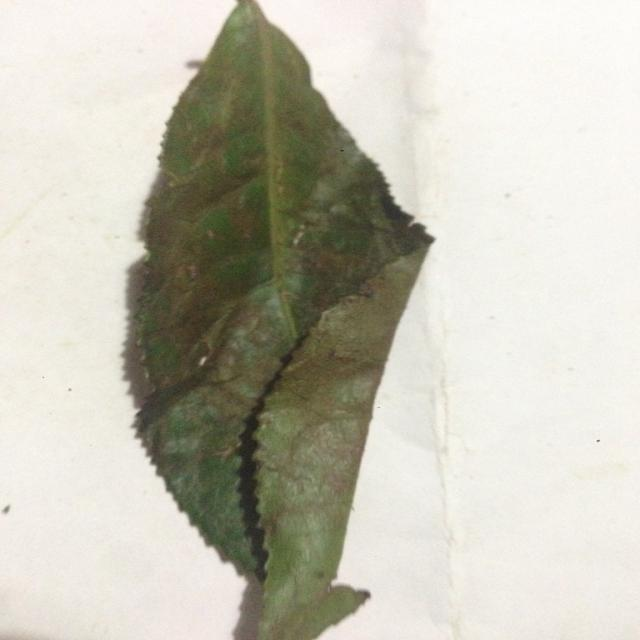Red Leaf Spot: (98, 7, 544, 640)
